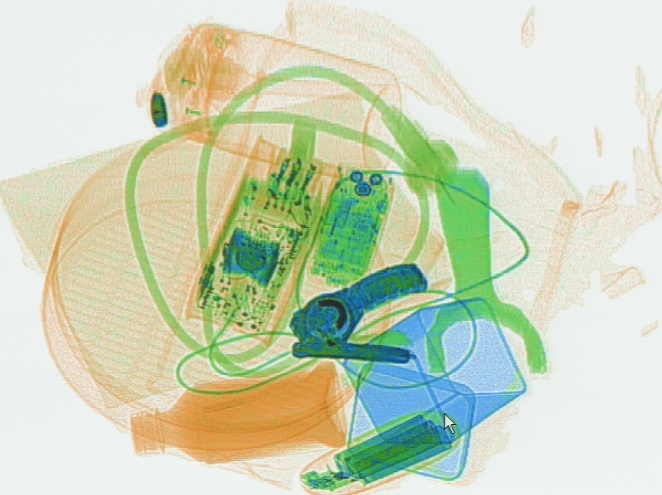knife: (290, 339, 415, 365)
powerbank: (297, 402, 458, 492)
slingshot: (425, 166, 548, 377)
